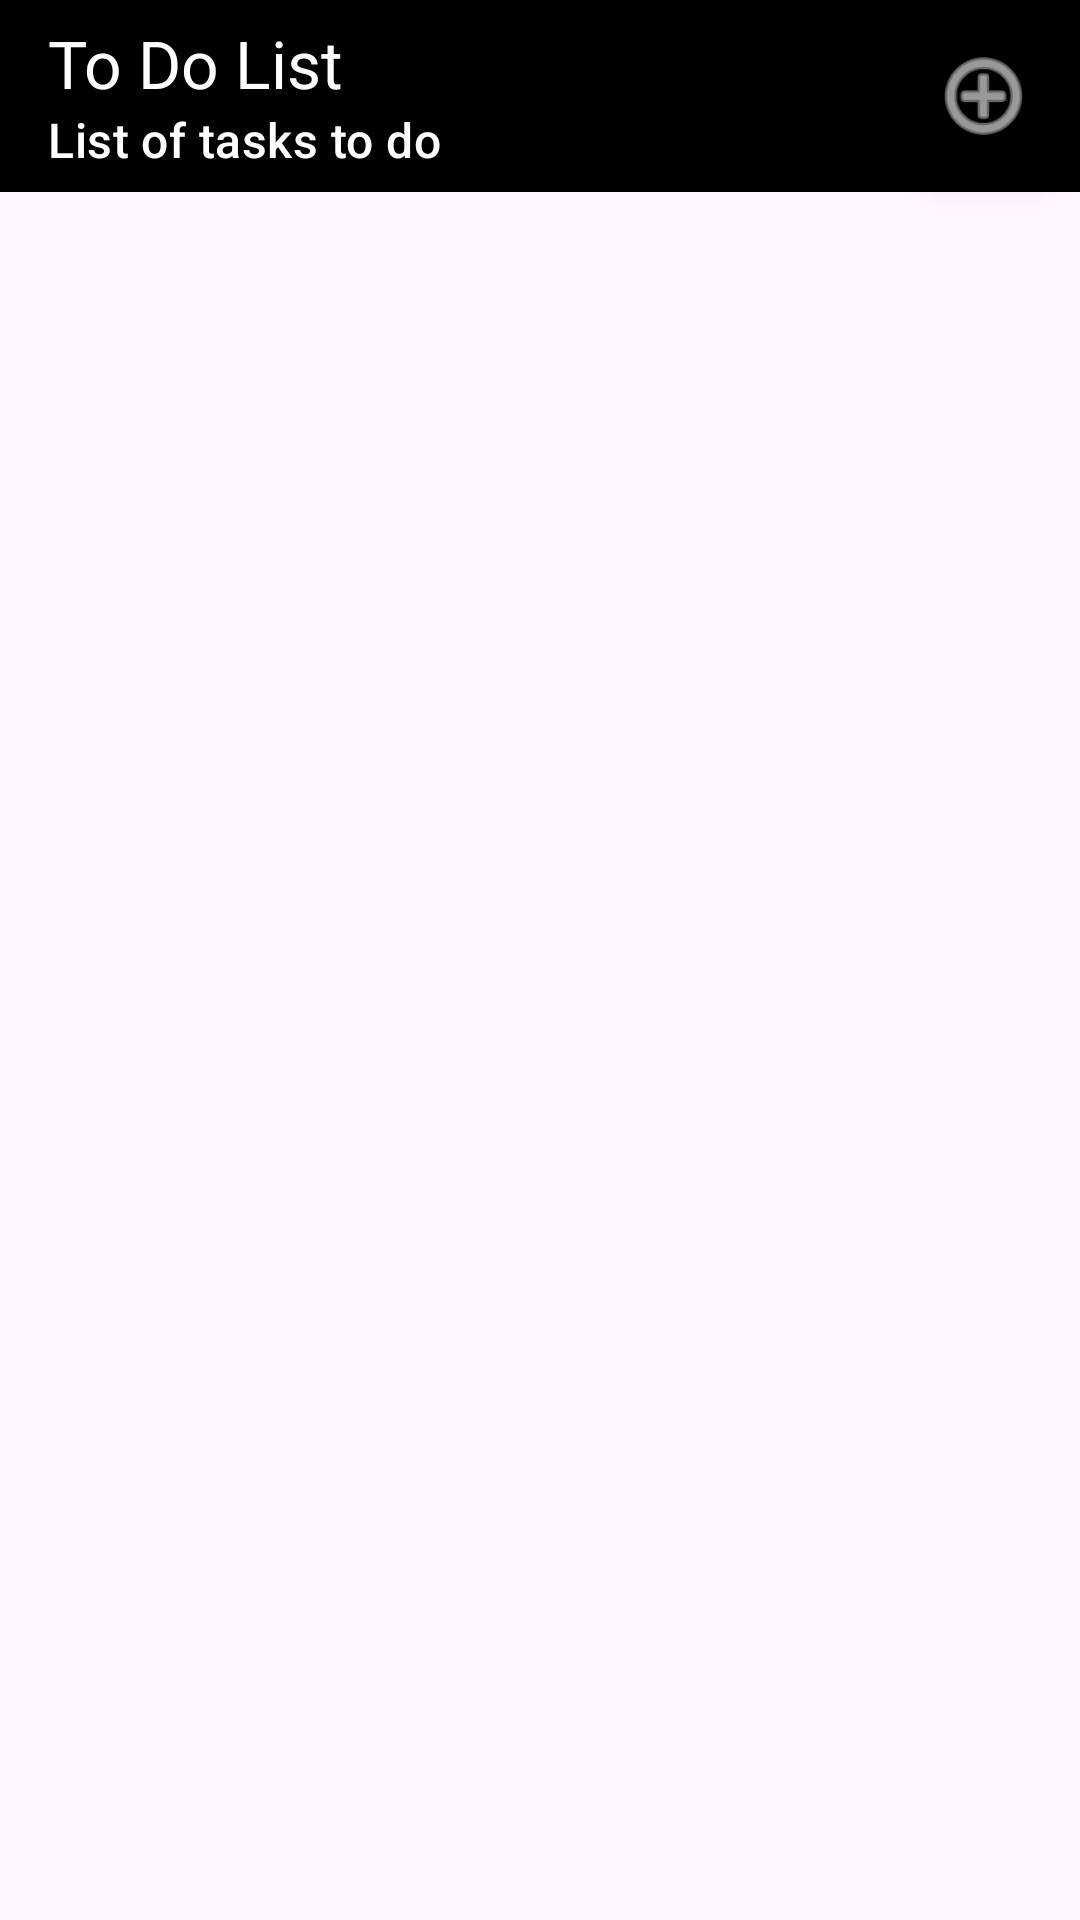

Named icons in this screenshot (1080px×1920px) and their bounding boxes, [x1=x1, y1=y1, x2=x2, y2=y2]:
Add New To Do Item: [x1=944, y1=57, x2=1023, y2=135]
